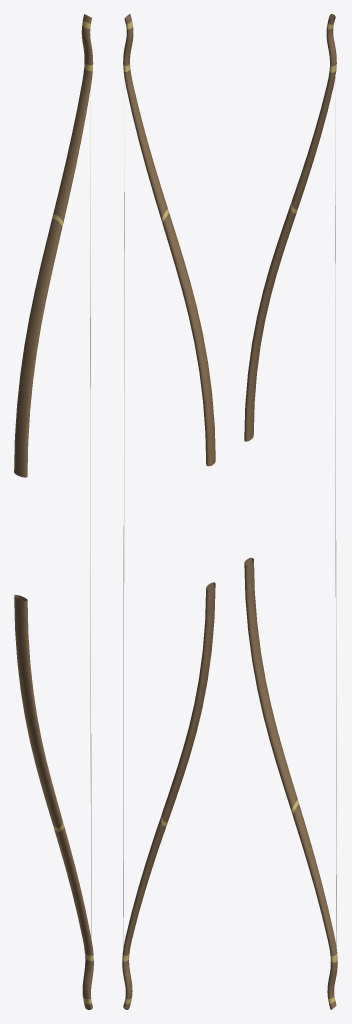
File: Weapon_MS_Bow.glb
3 renders of one model, left to right at view 1: azimuth 30°, elevation 25°; view 2: azimuth 150°, elevation 25°; view 3: azimuth 330°, elevation 25°, orthographic.
Parts seen in each view (by area): view 1: Weapon_MS_Bow; view 2: Weapon_MS_Bow; view 3: Weapon_MS_Bow.
Boxes of the visible parts, x1,y1,x2,y2 form: Weapon_MS_Bow: (14,14,93,1009); Weapon_MS_Bow: (122,14,215,1009); Weapon_MS_Bow: (244,14,337,1009).
Bounding box in the file's own units: 0.1141 × 1.3 × 0.0373.
